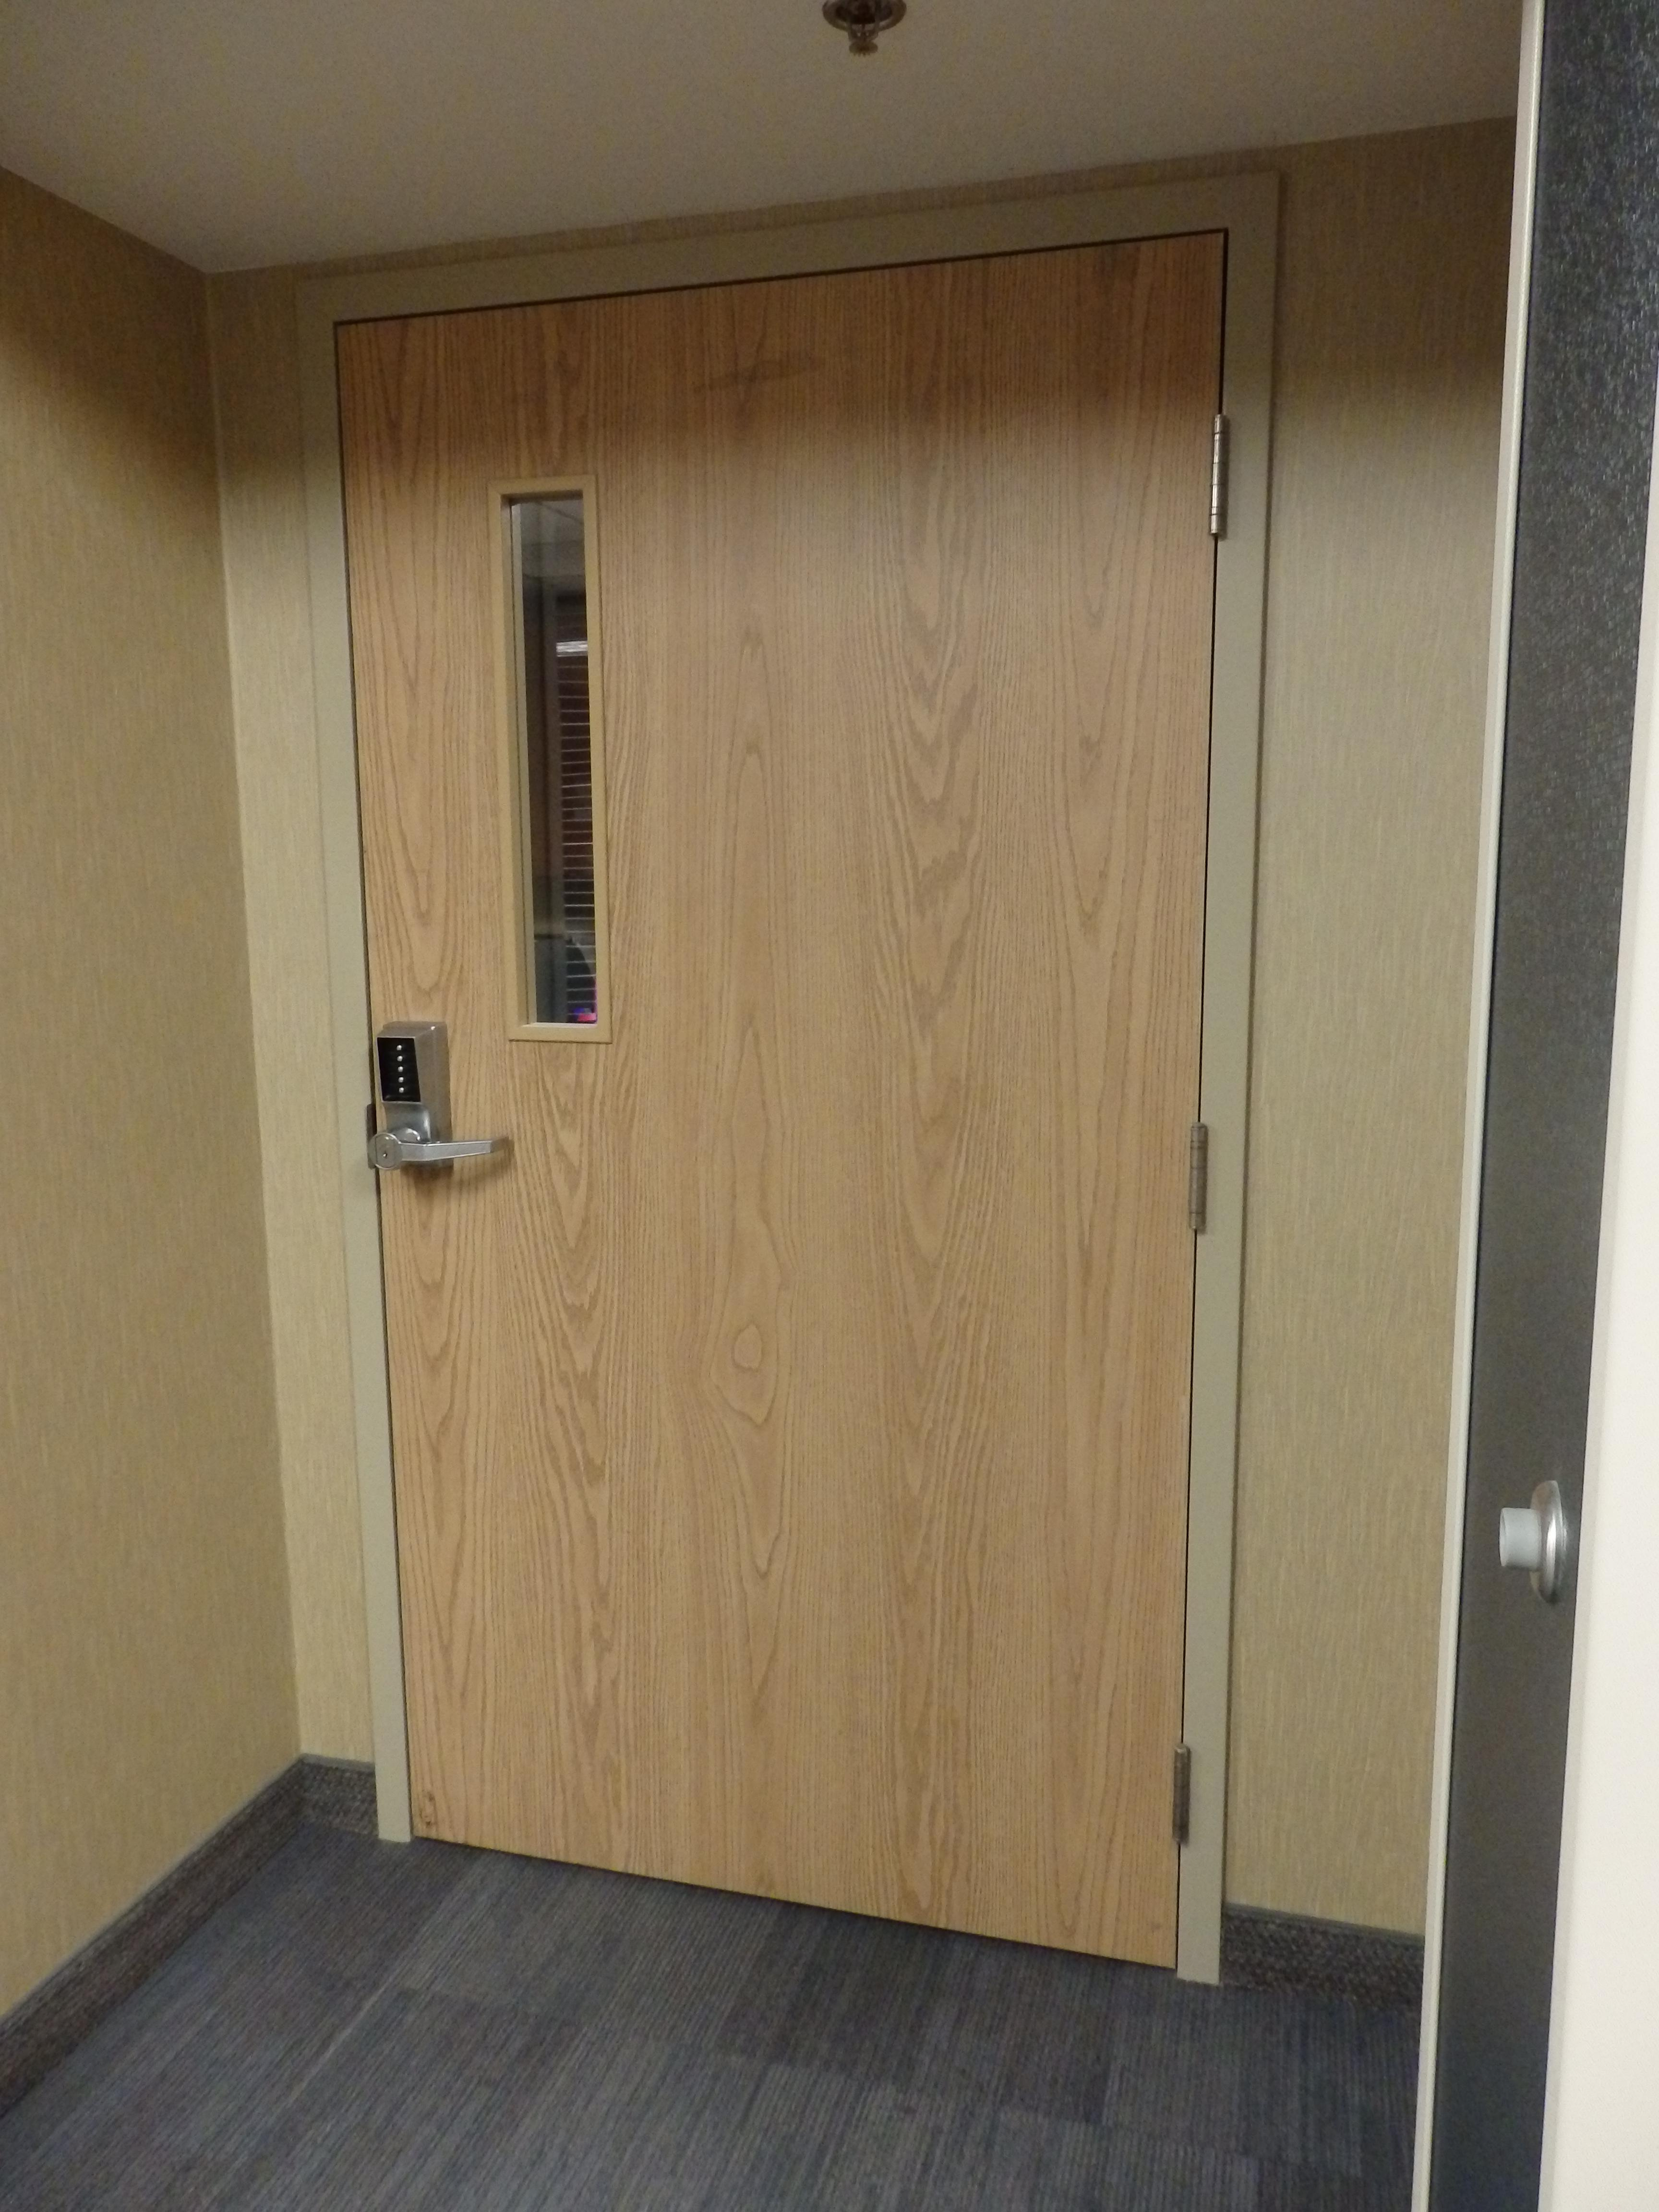door: (296, 174, 1283, 1987)
